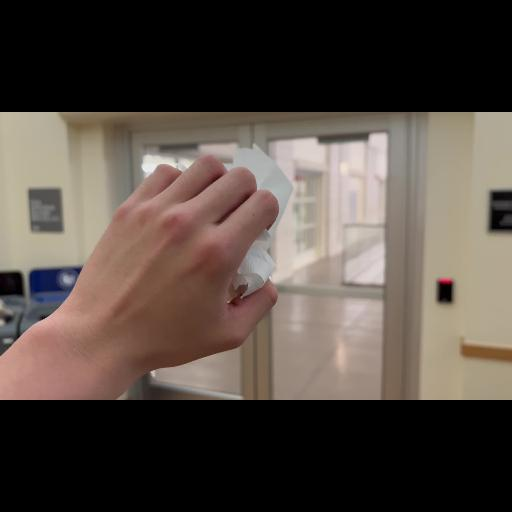napkin: (162, 140, 298, 308)
